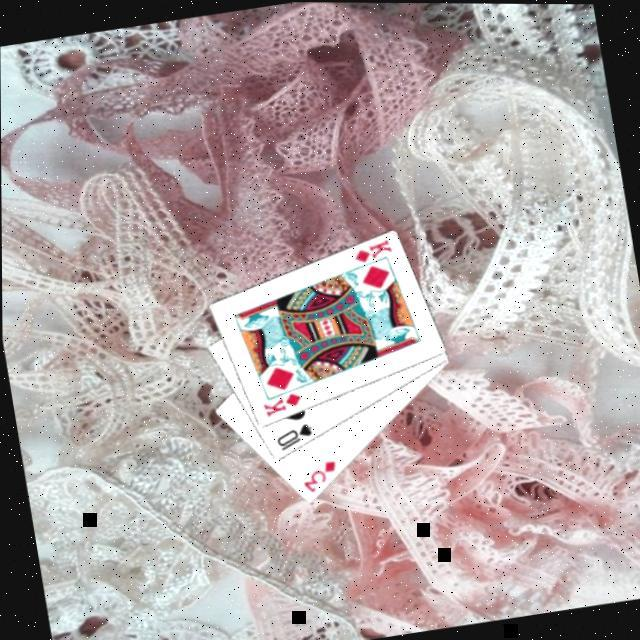10S: (269, 421, 315, 457)
3D: (294, 458, 341, 499)
KD: (255, 389, 304, 422), (348, 238, 394, 269)
